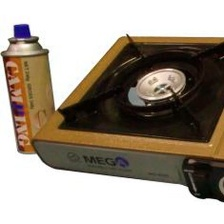aerosol_cans: (0, 20, 66, 158)
